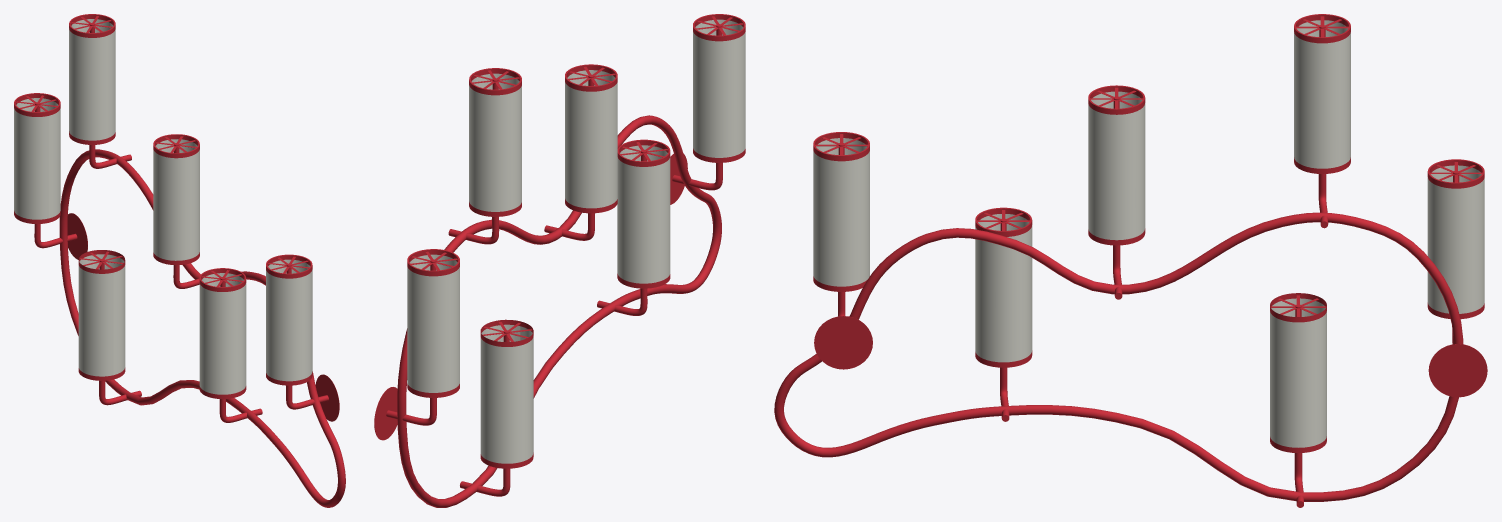
File: LOT308.glb
The picture shows the model from 3 angles, left to right: view 1: azimuth 30°, elevation 25°; view 2: azimuth 150°, elevation 25°; view 3: azimuth 270°, elevation 25°; orthographic projection. The views are drawn at different scales.
Visible parts, largest first — view 1: Plane.017, Cylinder.021, Cylinder.011, Cylinder.008, Cylinder.006, BezierCircle, Plane.011, Cylinder, Circle.001, Circle, NurbsPath.019; view 2: Plane.017, BezierCircle, Cylinder.021, Cylinder.011, Cylinder.006, Cylinder.008, Cylinder, Circle, Plane.011, NurbsPath.015, NurbsPath.002, NurbsPath.018 (+4 smaller); view 3: BezierCircle, Plane.017, Cylinder.008, Cylinder.006, Cylinder.011, Cylinder.021, Cylinder, Plane.011, Circle.001, Circle.
Part boxes in pixels (left/top/right/bottom): Plane.017: left=78, top=250, right=125, bottom=380; Cylinder.021: left=199, top=268, right=246, bottom=398; Cylinder.011: left=266, top=254, right=312, bottom=385; Cylinder.008: left=153, top=134, right=199, bottom=265; Cylinder.006: left=69, top=14, right=115, bottom=144; BezierCircle: left=59, top=149, right=345, bottom=507; Plane.011: left=15, top=104, right=60, bottom=223; Cylinder: left=14, top=93, right=60, bottom=222; Circle.001: left=315, top=374, right=339, bottom=421; Circle: left=67, top=213, right=87, bottom=259; NurbsPath.019: left=286, top=385, right=328, bottom=409; Plane.017: left=480, top=319, right=533, bottom=468; BezierCircle: left=397, top=115, right=721, bottom=507; Cylinder.021: left=617, top=139, right=670, bottom=288; Cylinder.011: left=693, top=14, right=745, bottom=162; Cylinder.006: left=469, top=68, right=521, bottom=216; Cylinder.008: left=565, top=64, right=617, bottom=213; Cylinder: left=407, top=249, right=459, bottom=397; Circle: left=374, top=387, right=397, bottom=440; Plane.011: left=432, top=260, right=459, bottom=391; NurbsPath.015: left=460, top=468, right=510, bottom=496; NurbsPath.002: left=386, top=398, right=436, bottom=425; NurbsPath.018: left=544, top=213, right=594, bottom=240; BezierCircle: left=774, top=212, right=1463, bottom=501; Plane.017: left=1270, top=293, right=1326, bottom=452; Cylinder.008: left=1088, top=85, right=1145, bottom=245; Cylinder.006: left=1294, top=14, right=1350, bottom=173; Cylinder.011: left=813, top=132, right=869, bottom=291; Cylinder.021: left=975, top=207, right=1032, bottom=367; Cylinder: left=1427, top=159, right=1484, bottom=318; Plane.011: left=1427, top=172, right=1461, bottom=319; Circle.001: left=814, top=316, right=872, bottom=369; Circle: left=1428, top=344, right=1487, bottom=397.
Bounding box in the file's own units: 0.4649 × 2.8 × 3.94.
